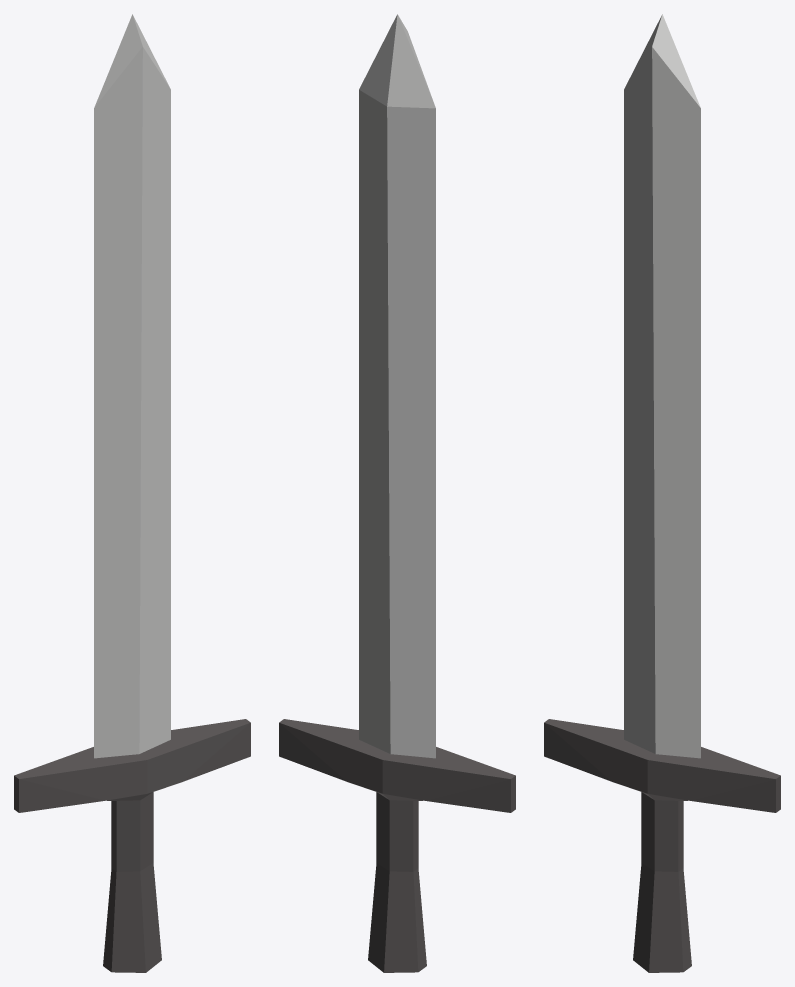
The model's file is sword.glb.
3 renders of one model, left to right at view 1: azimuth 30°, elevation 25°; view 2: azimuth 150°, elevation 25°; view 3: azimuth 330°, elevation 25°, orthographic.
Visible parts, largest first — view 1: sword; view 2: sword; view 3: sword.
Boxes of the visible parts, bbox=[...] form: sword: bbox=[14, 14, 250, 972]; sword: bbox=[279, 14, 515, 972]; sword: bbox=[544, 14, 780, 972].
Size of the model in its own units: 0.2761 by 1.08 by 0.0613.
Materials: 1 (1 with a texture image).
